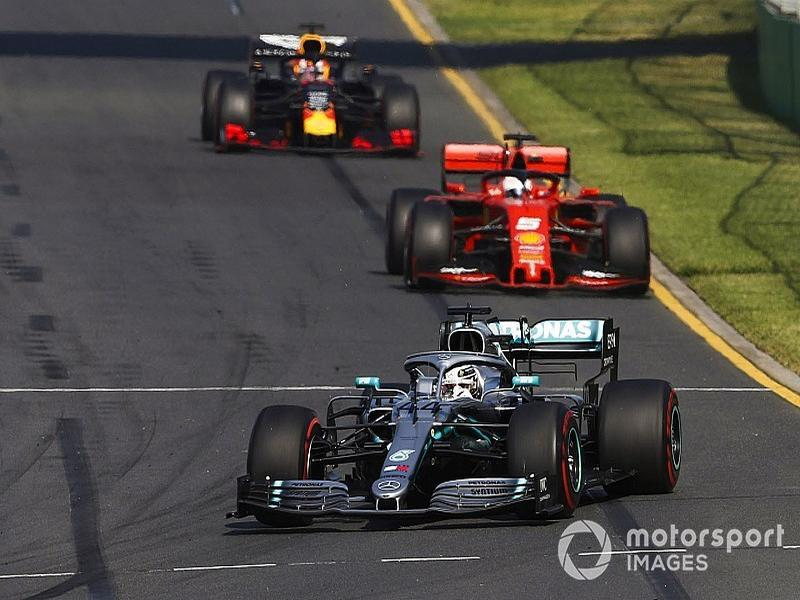f1: (215, 298, 721, 535), (378, 130, 703, 304), (200, 23, 455, 162)
